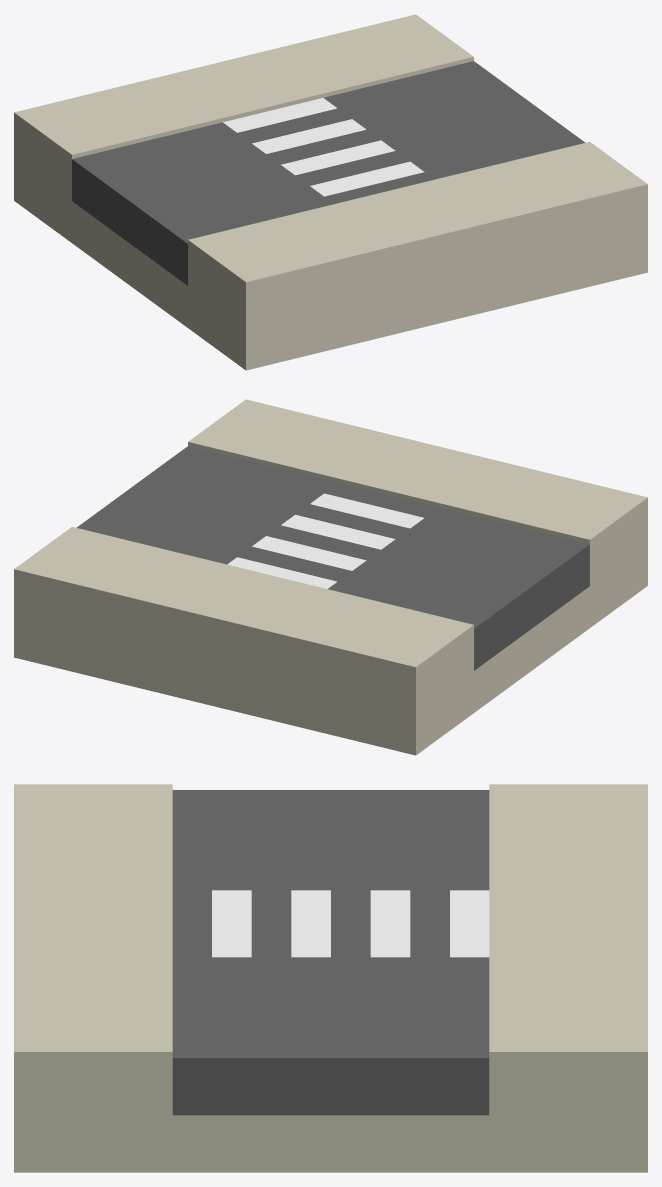
File: tile026.fbx
3 views of the same model, one above another, from view 1: azimuth 30°, elevation 25°; view 2: azimuth 150°, elevation 25°; view 3: azimuth 270°, elevation 25° (orthographic). The views are drawn at different scales.
Visible parts, largest first — view 1: tile026; view 2: tile026; view 3: tile026.
Boxes of the visible parts, x1,y1,x2,y2 form: tile026: (14, 14, 647, 370); tile026: (14, 399, 647, 755); tile026: (14, 784, 647, 1172).
Size of the model in its own units: 10 by 2.1 by 10.
